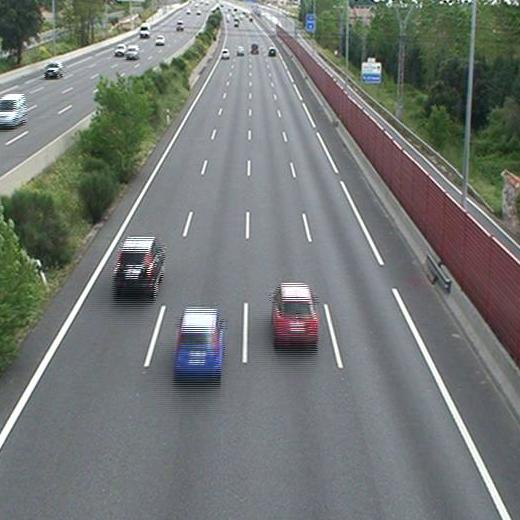car: (176, 307, 222, 374), (113, 237, 163, 292), (272, 284, 317, 339), (220, 50, 230, 60), (268, 47, 276, 56), (250, 44, 258, 53), (235, 46, 243, 55)
